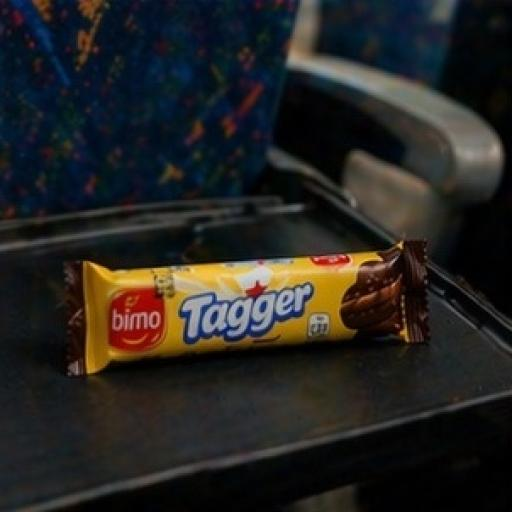tagger: (54, 140, 454, 462)
